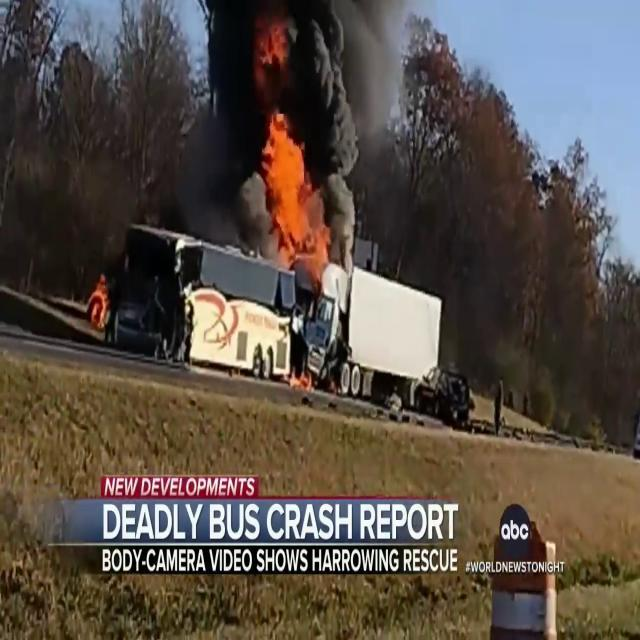Fire: (250, 100, 330, 274)
Smoke: (189, 0, 398, 160)
